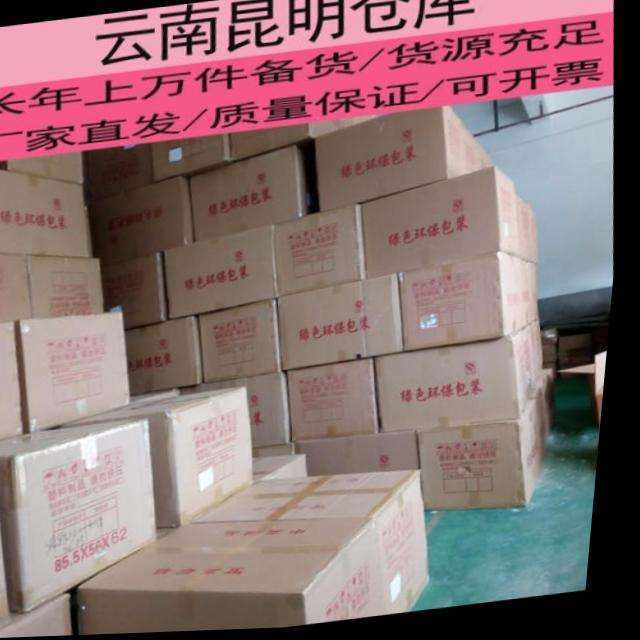box: (88, 521, 399, 636), (195, 473, 441, 616), (0, 420, 168, 613), (66, 387, 262, 529), (379, 323, 551, 436), (424, 373, 561, 513), (316, 108, 498, 213), (364, 170, 526, 281), (20, 310, 137, 434), (404, 254, 545, 354), (282, 275, 410, 373), (192, 146, 313, 245), (168, 227, 282, 321), (91, 177, 199, 265), (277, 204, 372, 299), (0, 169, 96, 258), (188, 375, 299, 449), (294, 360, 387, 444), (204, 300, 288, 385), (232, 117, 377, 163), (131, 317, 209, 396), (303, 433, 429, 477), (105, 254, 173, 330), (29, 255, 110, 317), (0, 461, 23, 635), (0, 593, 85, 639), (89, 144, 155, 203), (0, 320, 31, 443), (153, 135, 232, 183), (0, 152, 87, 184), (0, 254, 38, 322), (519, 199, 545, 267), (262, 455, 316, 485), (601, 356, 614, 437)
